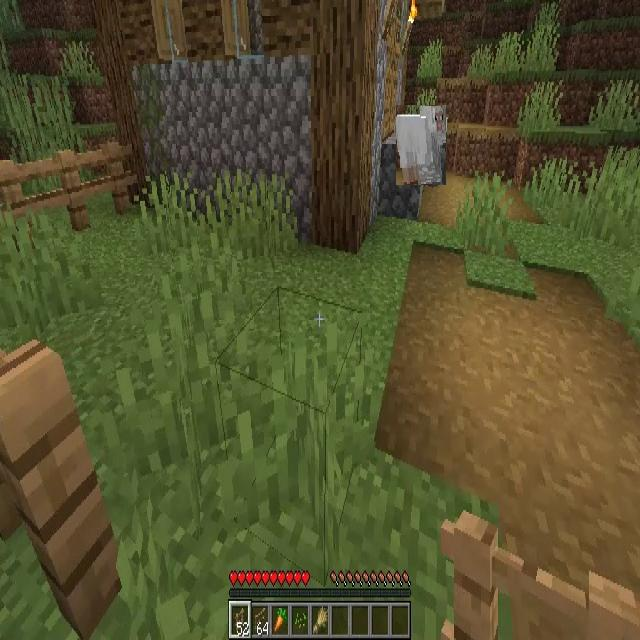sheep: (396, 106, 446, 186)
